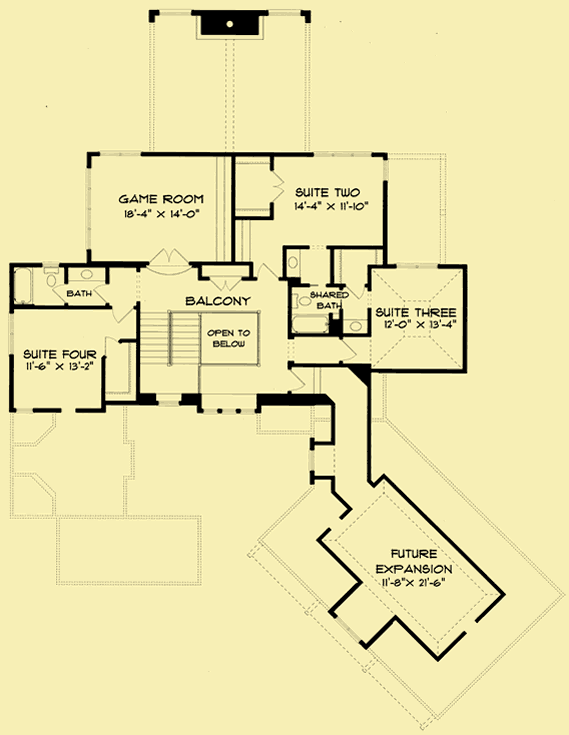bathroom wih small and large sink and tub: (285, 245, 374, 342)
bathroom with tub space, small and large sink: (8, 261, 109, 307)
stairs to the other floors: (132, 305, 204, 405)
